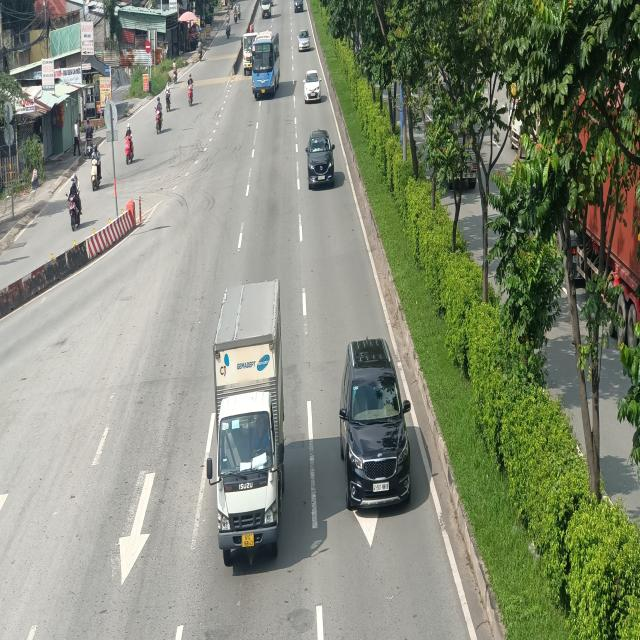car: (338, 338, 412, 519), (305, 124, 335, 191), (303, 68, 322, 102), (297, 30, 312, 50)
coach: (252, 30, 281, 102)
truck: (206, 278, 286, 566)
